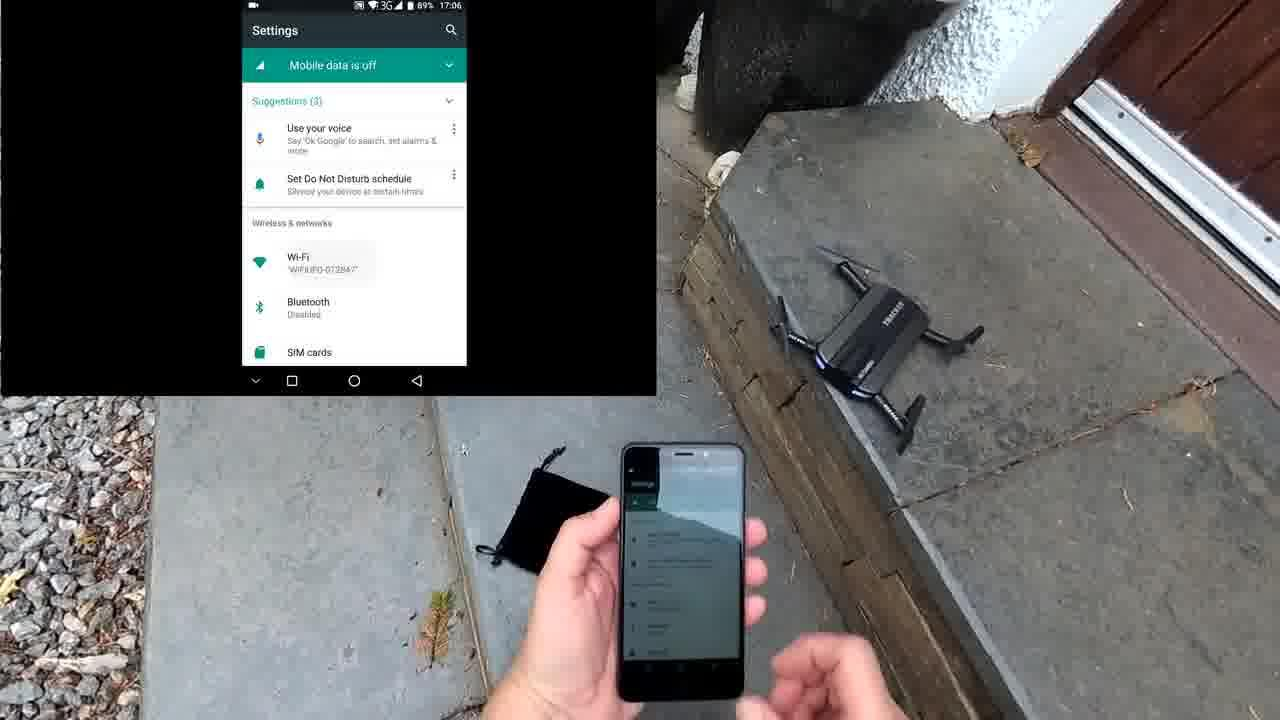drone: (769, 237, 1003, 441)
